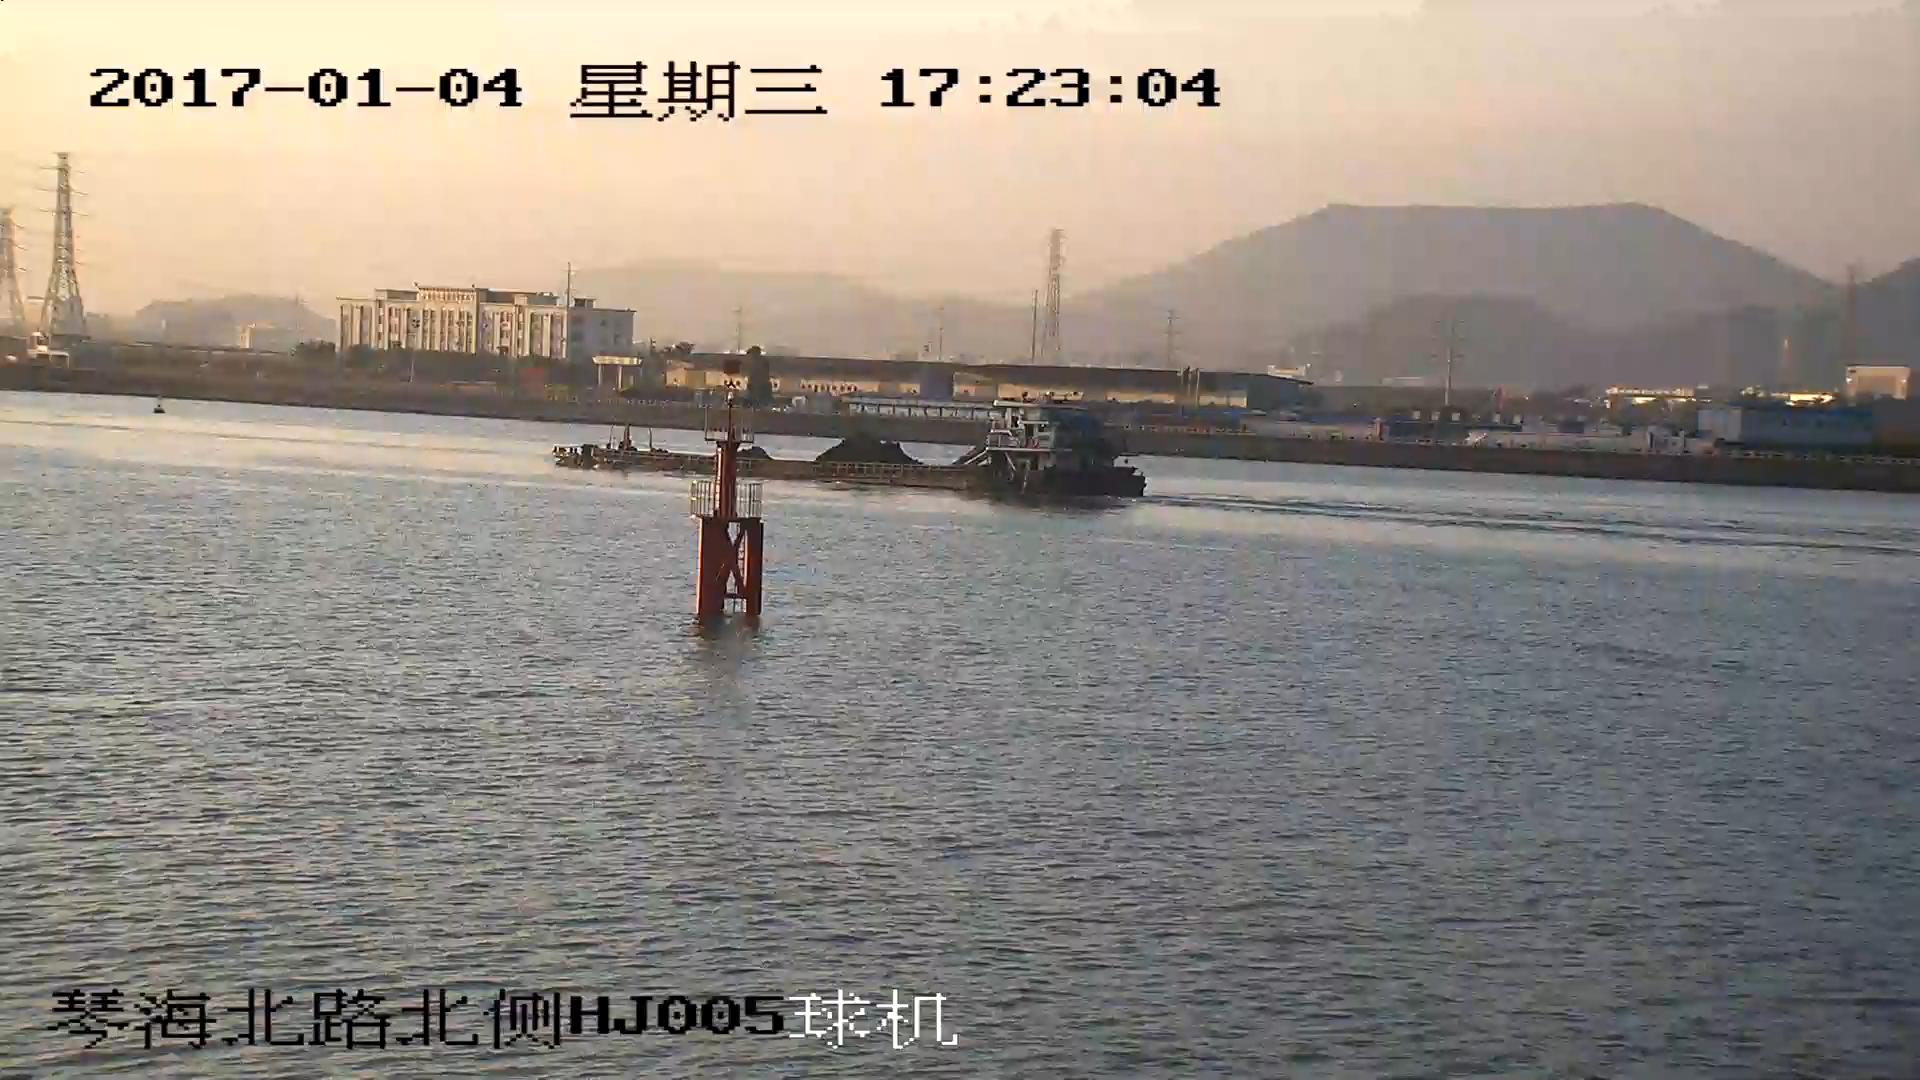ore carrier: (554, 397, 1146, 500)
